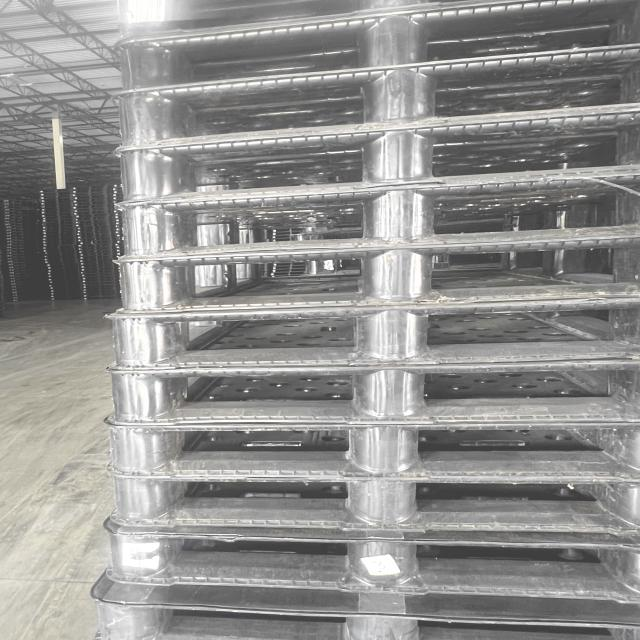igps: (104, 47, 640, 150), (106, 105, 640, 206), (100, 4, 640, 99), (104, 167, 640, 262), (97, 231, 640, 317), (95, 529, 640, 610), (86, 561, 640, 640), (97, 292, 640, 370), (96, 471, 640, 542), (100, 362, 640, 428), (98, 416, 640, 478), (99, 0, 640, 48), (72, 183, 108, 190), (73, 206, 109, 213), (38, 187, 71, 194), (71, 198, 109, 204), (70, 204, 108, 210), (71, 191, 108, 197), (73, 210, 110, 216), (73, 216, 110, 222), (72, 188, 108, 194), (76, 212, 110, 218), (40, 212, 74, 218), (44, 250, 76, 256), (71, 195, 108, 200), (82, 282, 117, 287), (44, 259, 78, 264), (40, 201, 72, 206), (42, 218, 74, 223), (44, 254, 76, 259), (74, 224, 111, 228), (73, 202, 109, 206), (74, 220, 110, 224), (76, 226, 112, 230), (76, 235, 112, 239), (77, 238, 113, 242), (77, 247, 113, 251), (78, 256, 114, 260), (81, 276, 117, 280), (82, 288, 118, 292), (82, 291, 118, 295), (82, 285, 117, 289), (41, 224, 76, 228), (78, 244, 112, 248), (80, 262, 114, 266), (84, 296, 118, 300), (38, 196, 72, 200), (38, 198, 72, 202), (40, 222, 74, 226), (80, 240, 113, 244), (39, 192, 72, 196), (41, 216, 74, 220), (42, 234, 75, 238), (42, 242, 75, 246), (42, 248, 75, 252), (44, 257, 77, 261), (8, 272, 30, 278), (42, 228, 74, 232), (42, 245, 74, 249), (9, 277, 29, 283), (9, 280, 29, 286), (76, 230, 112, 233), (76, 232, 112, 235), (78, 251, 114, 254), (80, 268, 116, 271), (80, 265, 115, 268), (81, 274, 116, 277), (79, 259, 113, 262), (82, 280, 116, 283), (40, 208, 74, 211), (41, 211, 74, 214), (42, 231, 75, 234), (40, 205, 72, 208), (3, 202, 22, 207), (2, 220, 24, 224), (3, 223, 24, 227), (2, 208, 22, 212), (3, 217, 23, 221), (5, 231, 25, 235), (5, 237, 25, 241), (5, 245, 25, 249), (5, 251, 25, 255), (6, 260, 26, 264), (8, 268, 28, 272), (8, 271, 28, 275), (8, 276, 28, 280), (3, 206, 22, 210), (7, 262, 26, 266), (82, 294, 118, 296), (6, 234, 24, 238), (80, 272, 115, 274), (79, 254, 113, 256), (40, 238, 74, 240), (41, 241, 75, 243), (5, 255, 26, 258), (3, 212, 23, 215), (3, 215, 23, 218), (4, 226, 24, 229), (4, 229, 24, 232), (5, 243, 25, 246), (6, 249, 26, 252), (6, 257, 26, 260), (3, 200, 22, 203), (6, 240, 25, 243), (8, 266, 26, 269)
